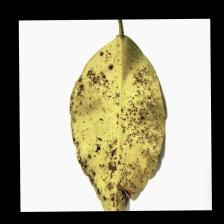canker: (78, 82, 165, 178)
